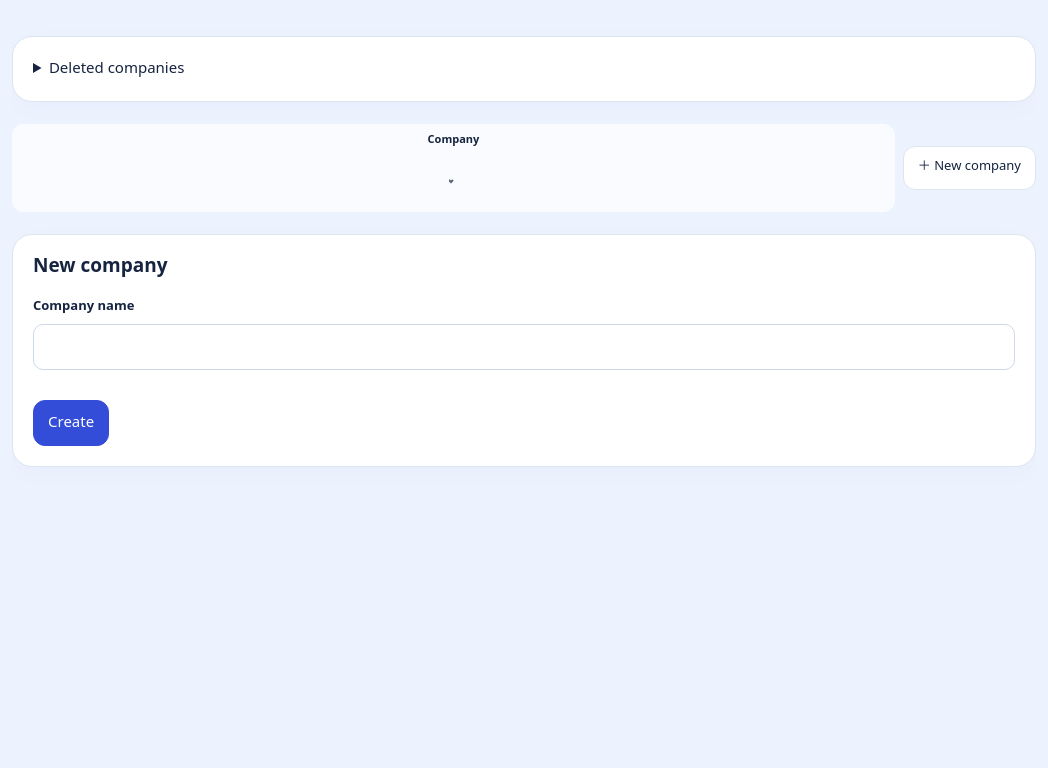
Test case: creates an initial company once and exposes its real returned identity
Type " New Shop " into the field labelled "Company name" at (524,347), box [33,324,1015,370]
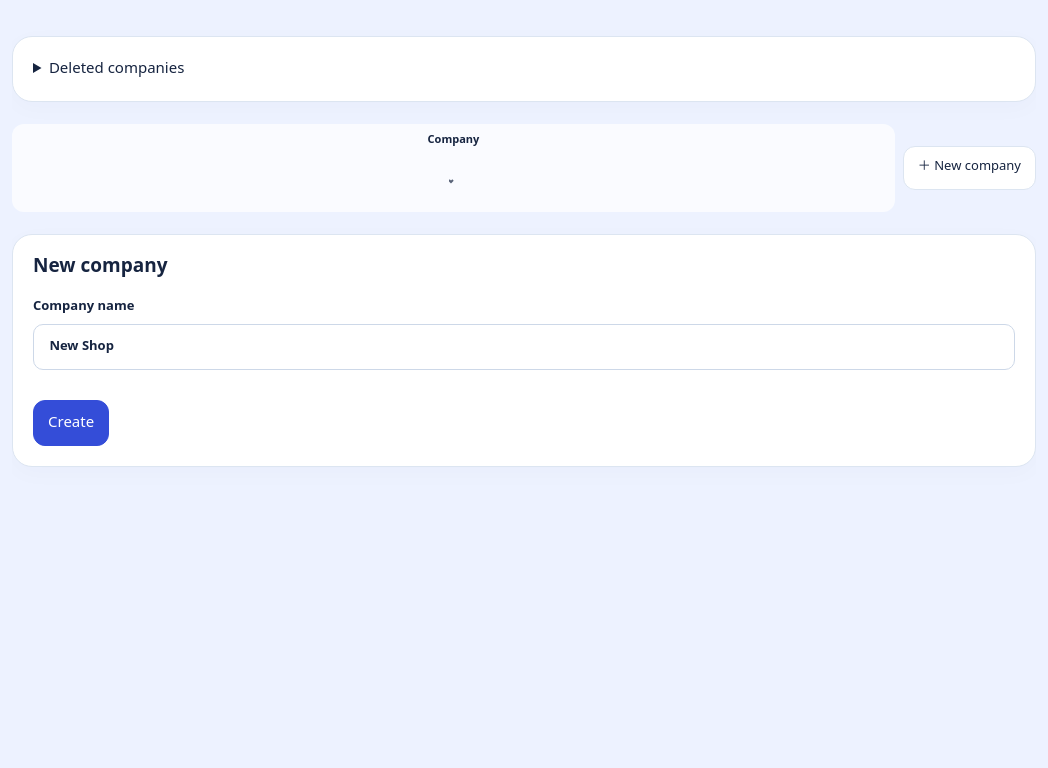
Submit the form labelled "Company name", box [12,234,1036,467]
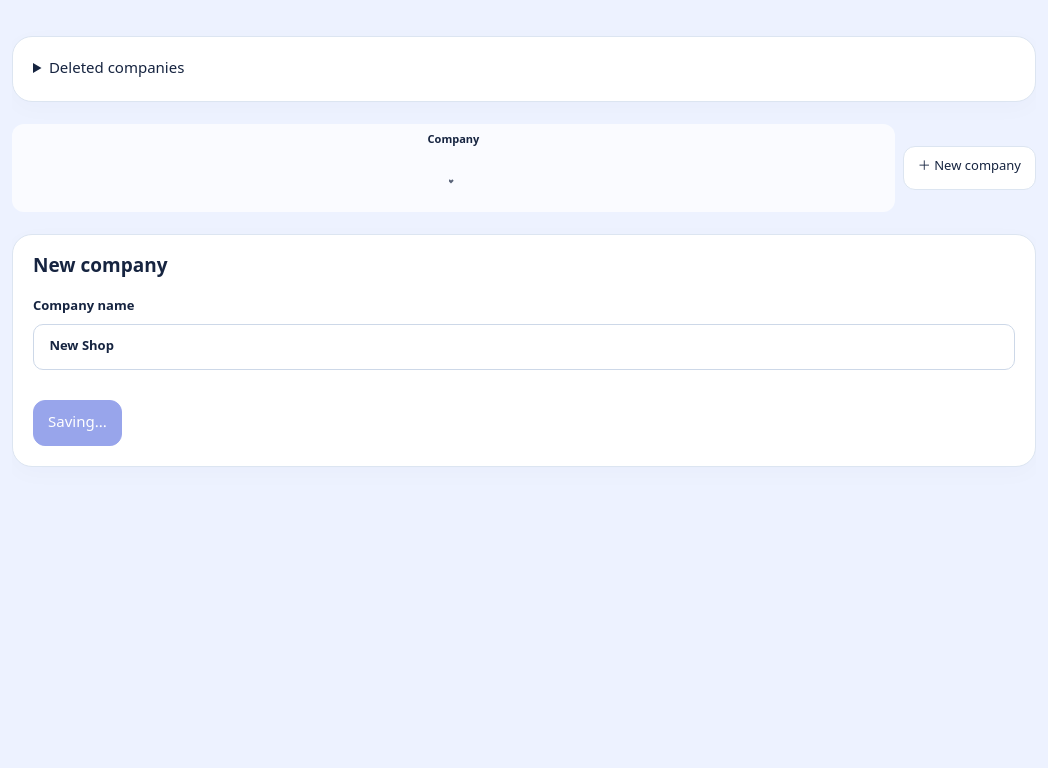
Submit the form labelled "Company name", box [12,234,1036,467]
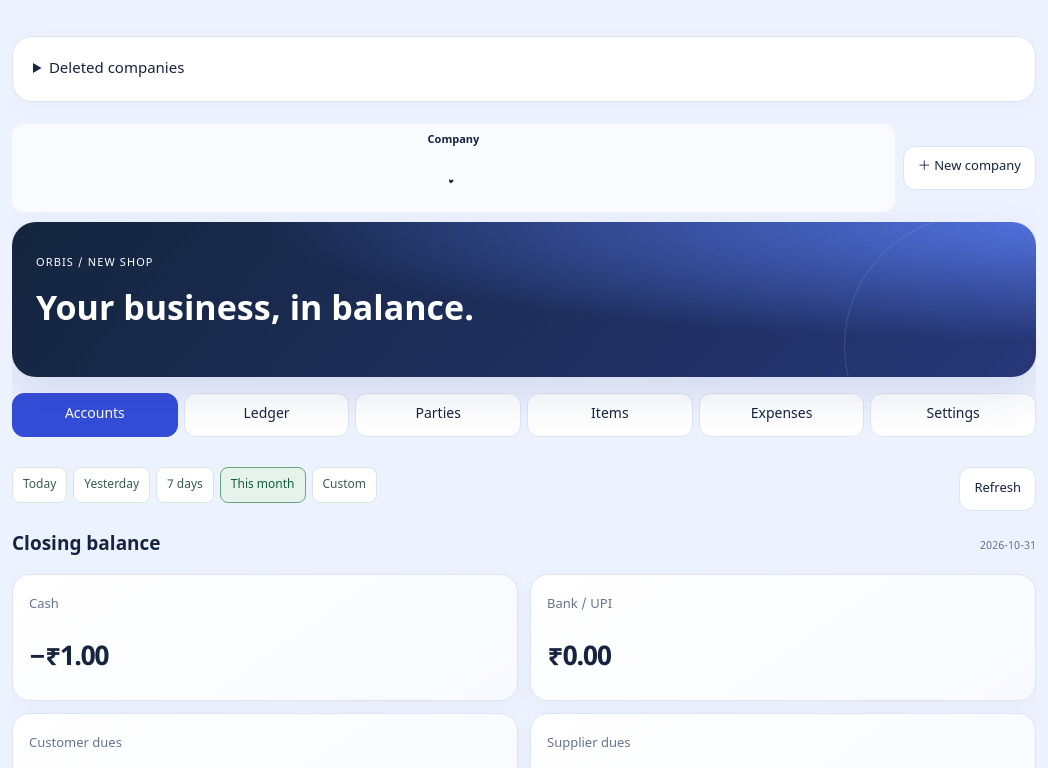
Check: the text "ORBIS / New Shop" is shown, box [36,256,154,270]
Check: the dropdown labelled "Company" shows "New Shop", box [449,158,457,204]
